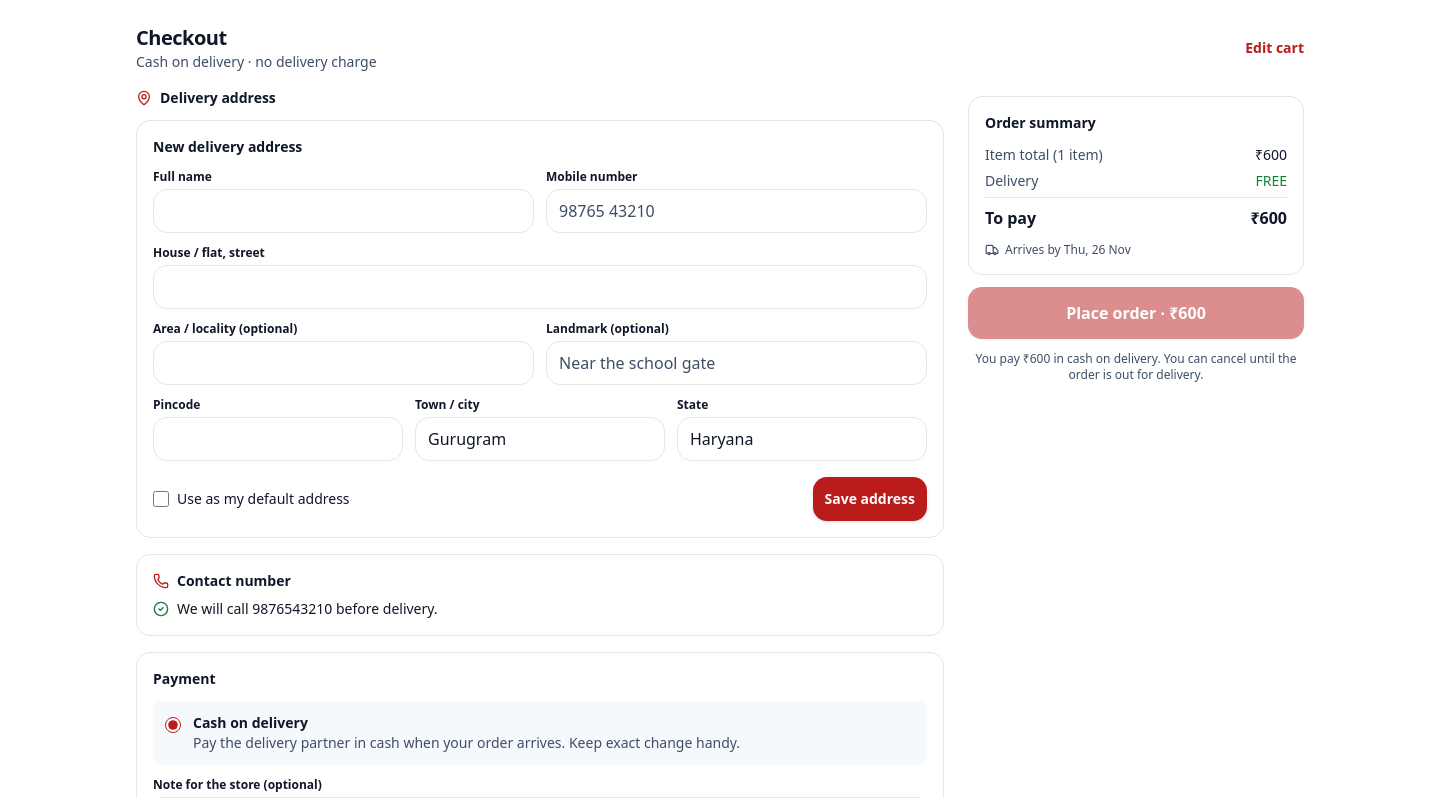
Test: CheckoutPage wallet and addresses › persists a new address and shows it even if the follow-up refresh fails
This screenshot has width=1440, height=798.
Type "Jashan Kumar" into the field labelled "Full name".
click(344, 211); type("Jashan Kumar")  # box [153, 189, 534, 233]
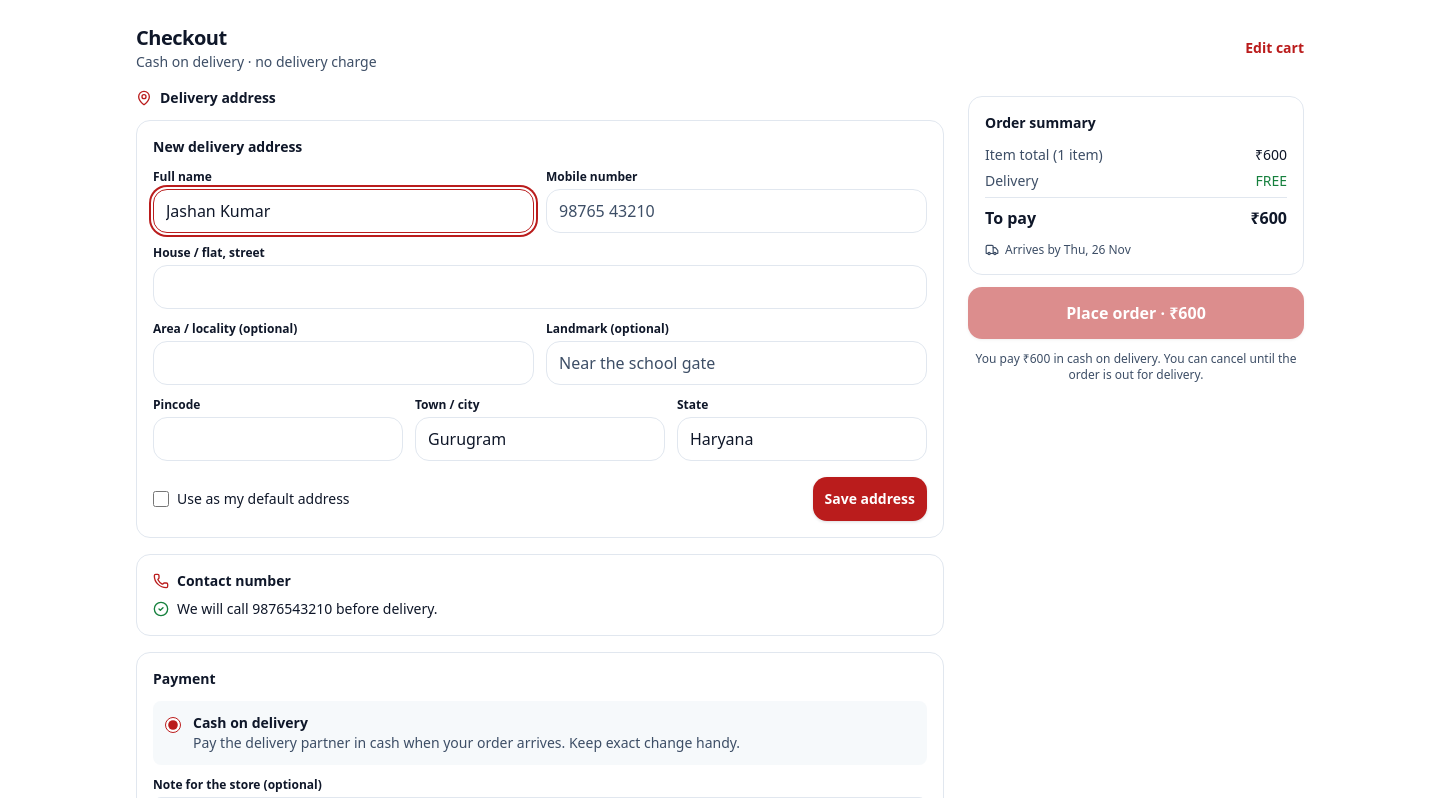
Type "9876543210" into the field labelled "Mobile number".
click(736, 211); type("9876543210")  # box [546, 189, 927, 233]
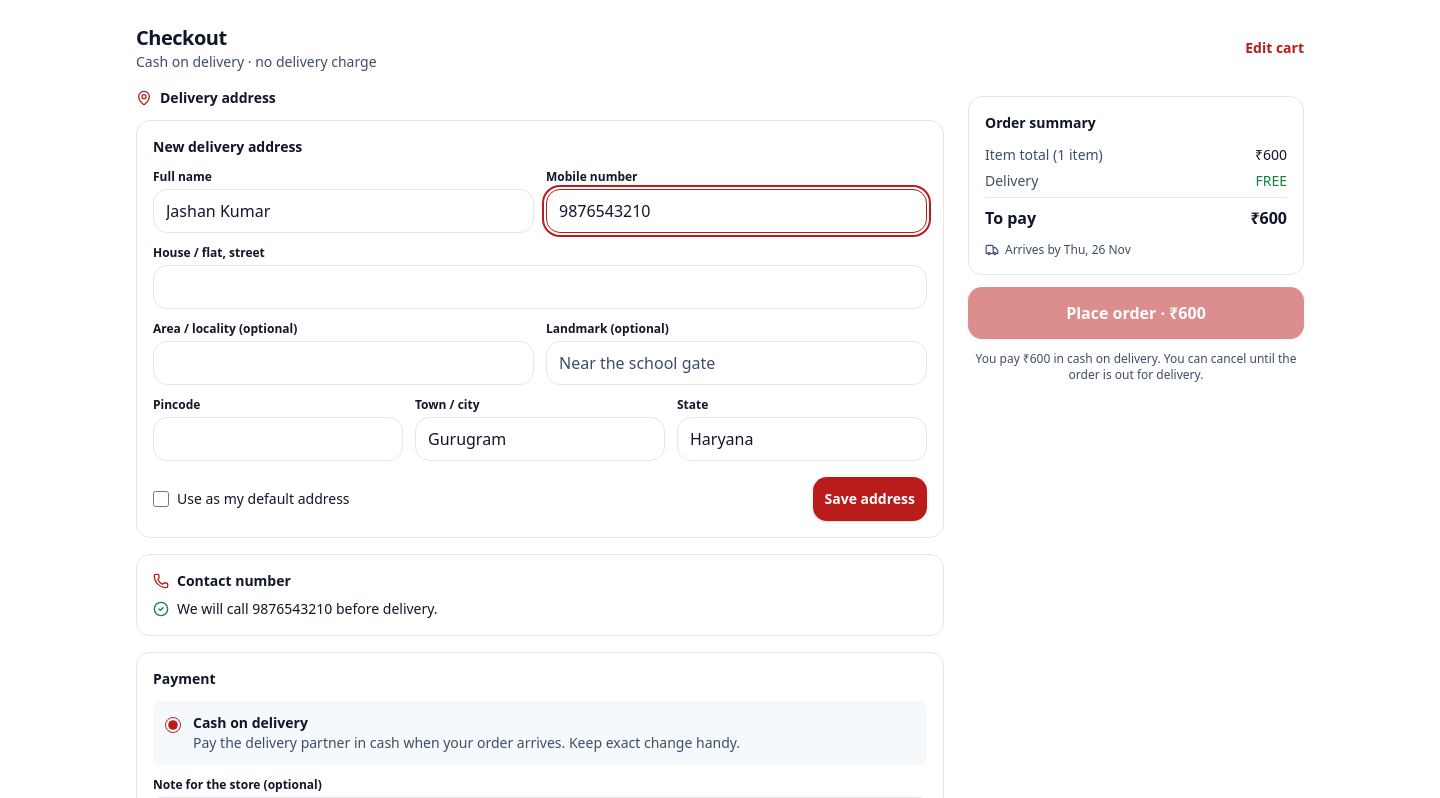
Type "12 Gali 3 Main Road" into the field labelled "House / flat, street".
click(540, 287); type("12 Gali 3 Main Road")  # box [153, 265, 927, 309]
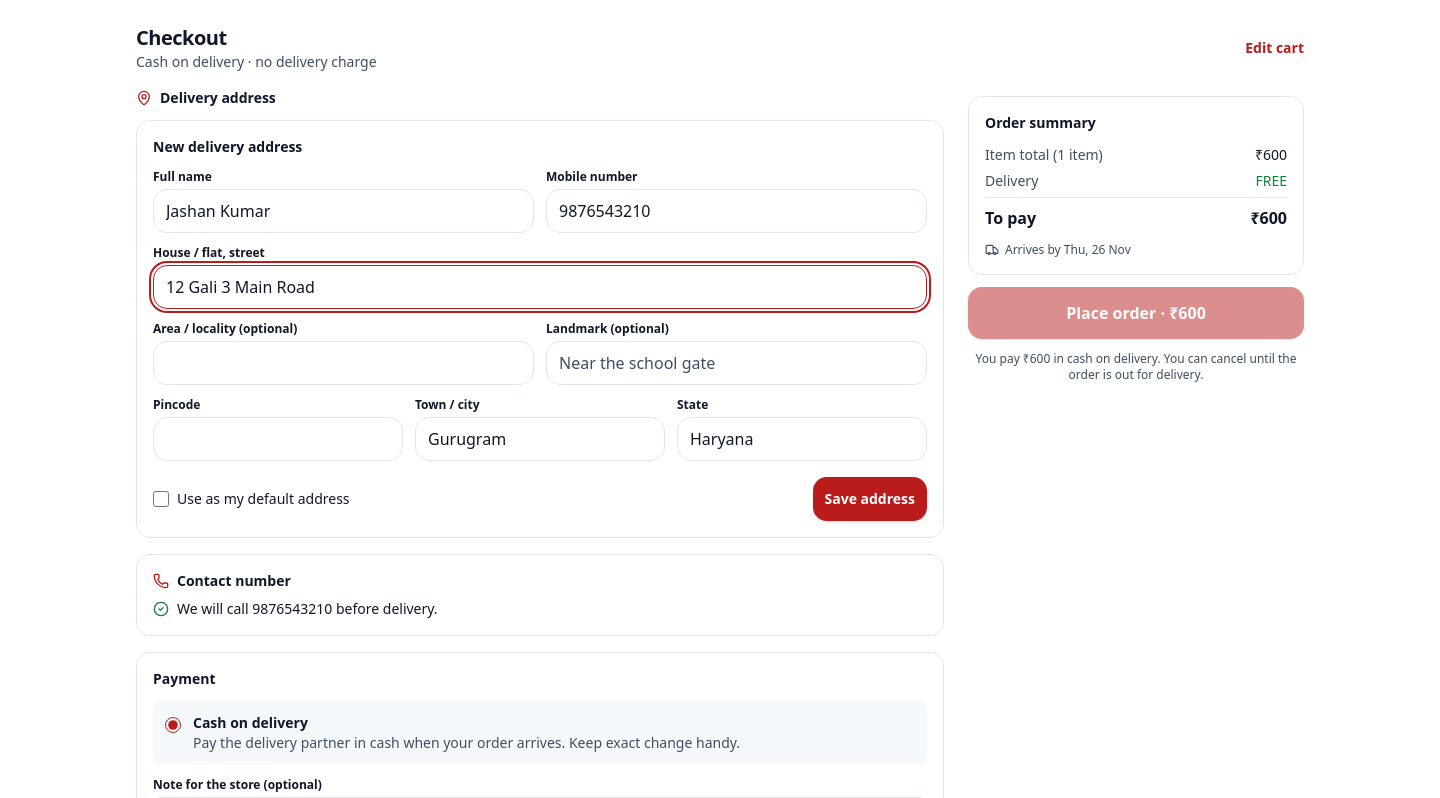
Type "122001" into the field labelled "Pincode".
click(278, 439); type("122001")  # box [153, 417, 403, 461]
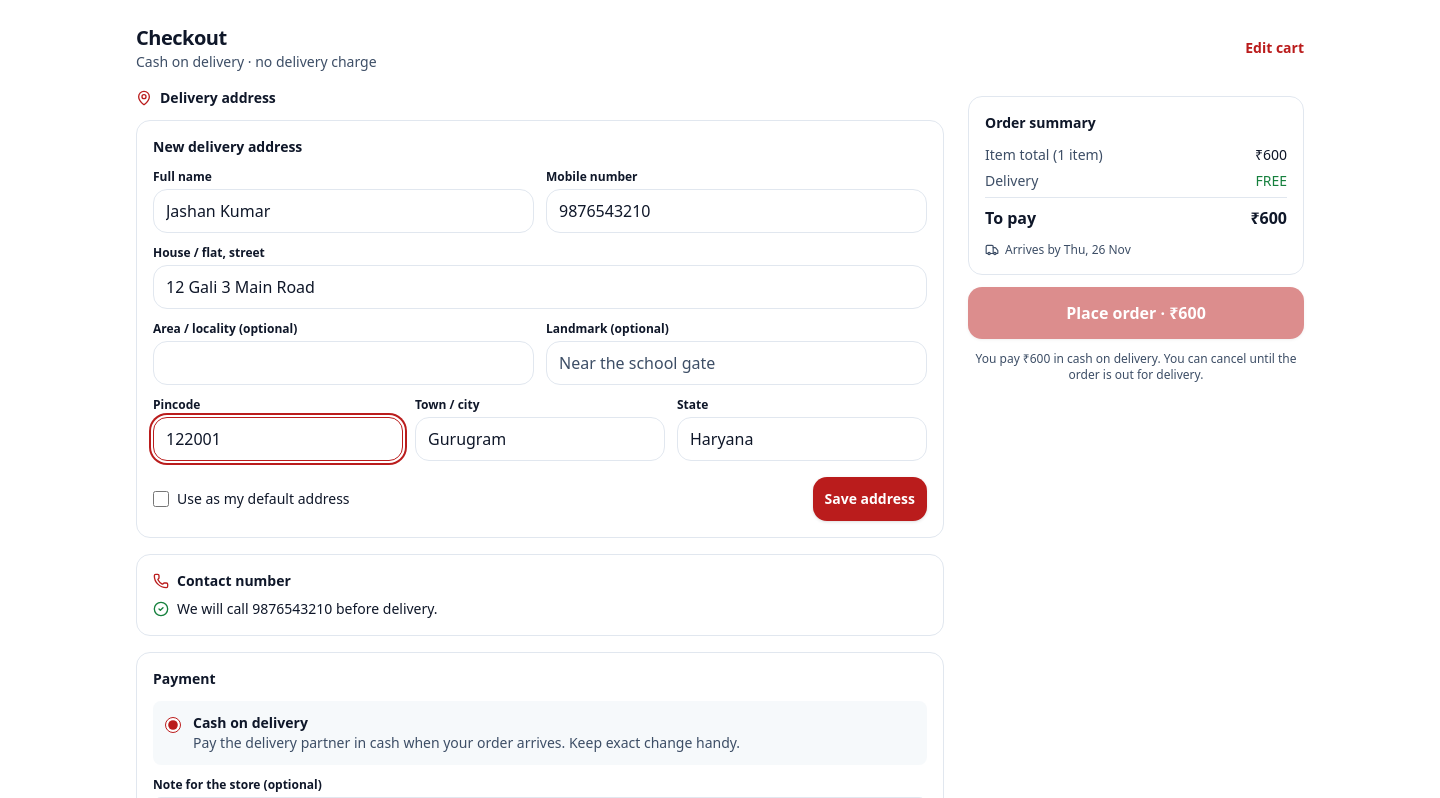
Click the button "Save address".
click(870, 499)  # box [812, 477, 927, 521]
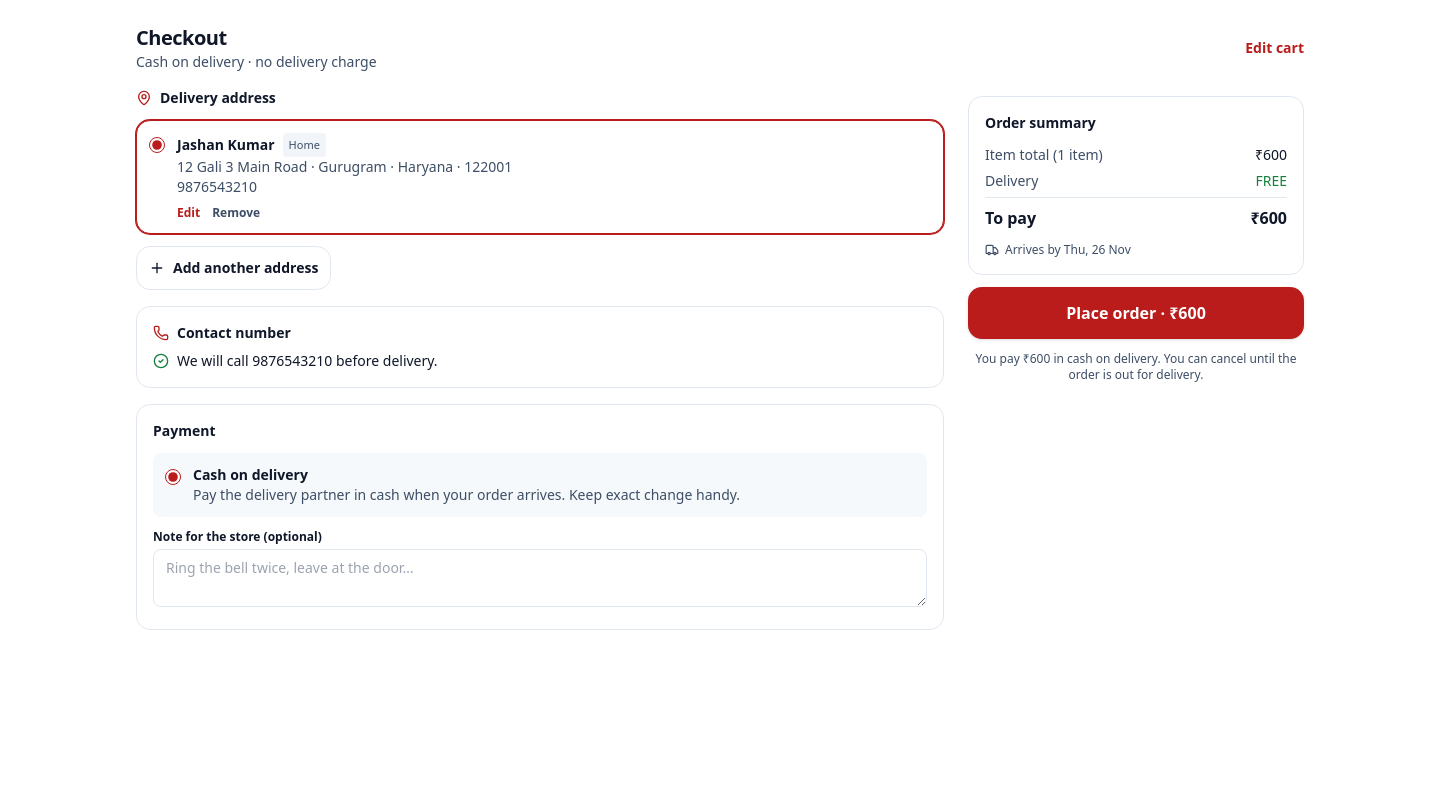
Now the text "Jashan Kumar" is shown, box [177, 135, 275, 154]
Now the button "Add another address" is shown, box [136, 246, 331, 290]
